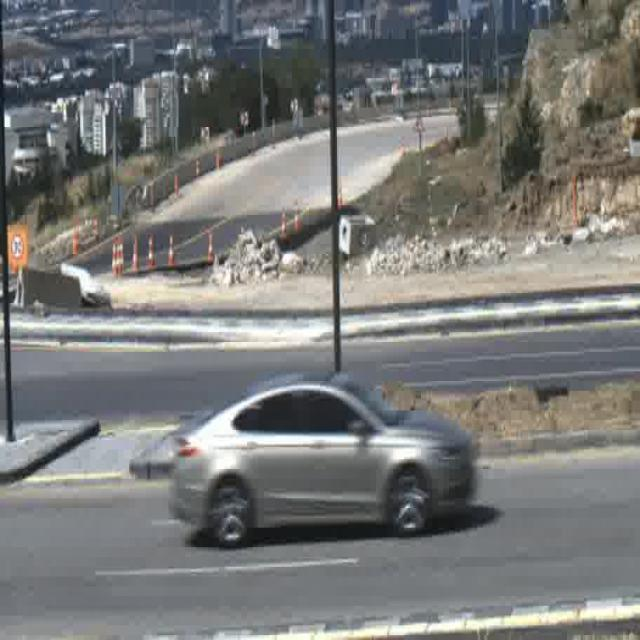Car: (164, 371, 472, 546)
